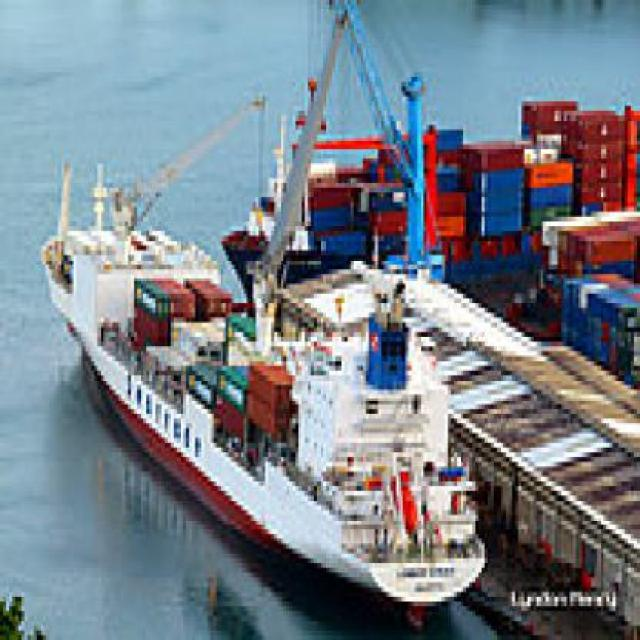container: (32, 112, 507, 636)
